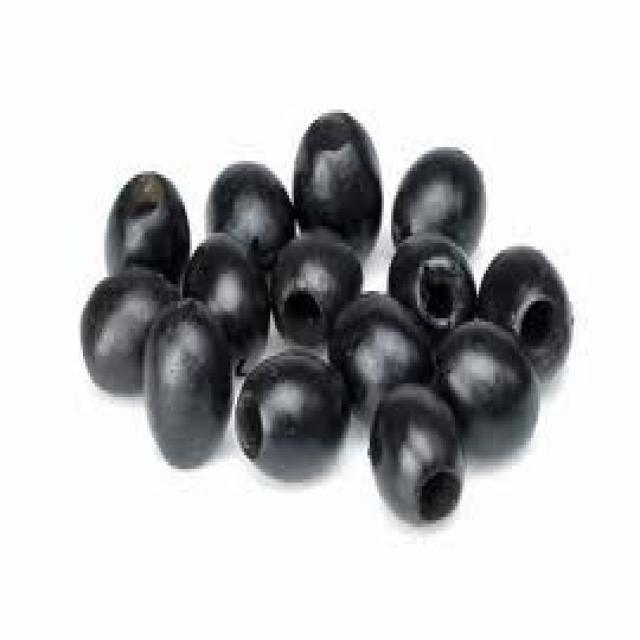olive: (64, 99, 607, 541)
